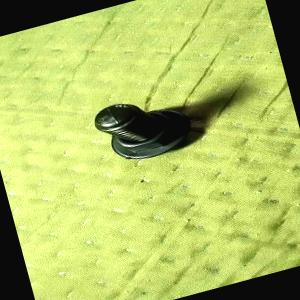parafuso: (90, 84, 197, 169)
